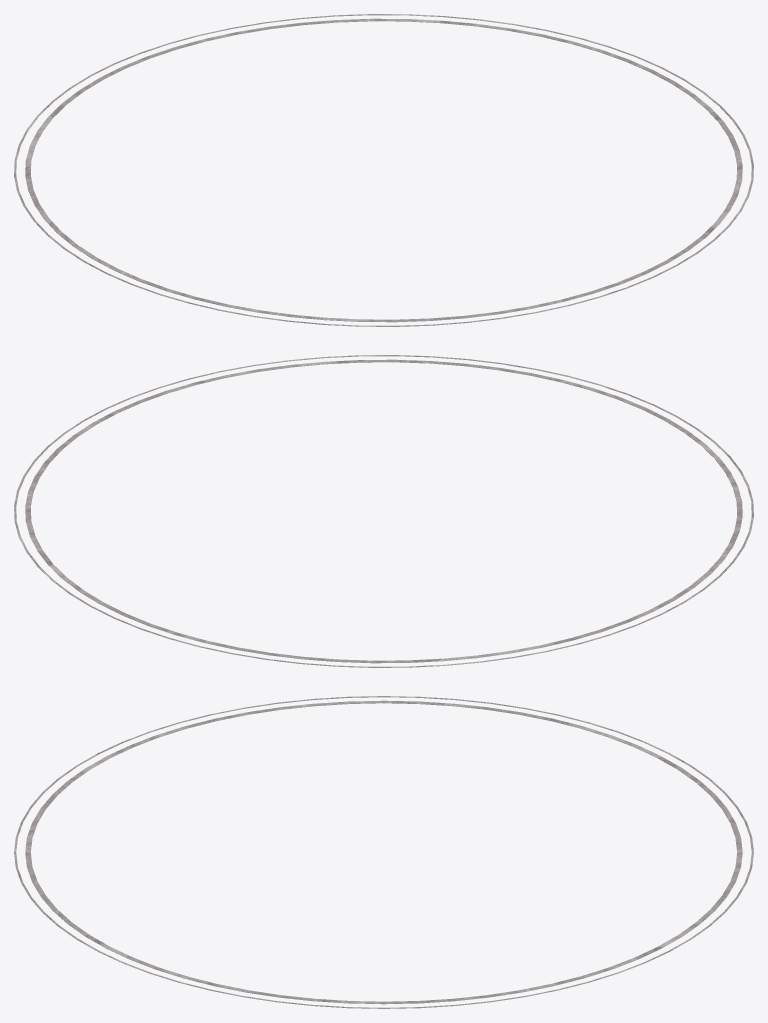
Rendered from UranusRing.glb.
3 renders of one model, top to bottom at view 1: azimuth 30°, elevation 25°; view 2: azimuth 150°, elevation 25°; view 3: azimuth 270°, elevation 25°, orthographic.
Parts seen in each view (by area): view 1: uranusring (2), uranusring (1); view 2: uranusring (2), uranusring (1); view 3: uranusring (2), uranusring (1).
Part boxes in pixels (box(x1,y1,x2,y2)): uranusring (2): box(25, 18, 742, 322); uranusring (1): box(14, 14, 753, 326); uranusring (2): box(25, 359, 742, 663); uranusring (1): box(14, 355, 753, 667); uranusring (2): box(25, 700, 742, 1004); uranusring (1): box(14, 696, 753, 1008).
Bounding box in the file's own units: 3.3 × 0.001 × 3.3.
1 material, 1 textured.
